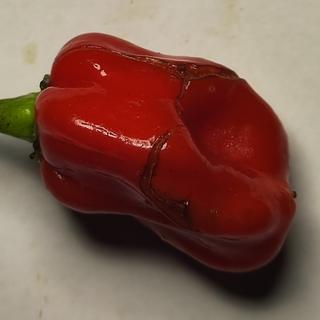striped: (58, 40, 251, 85), (134, 128, 177, 202)
